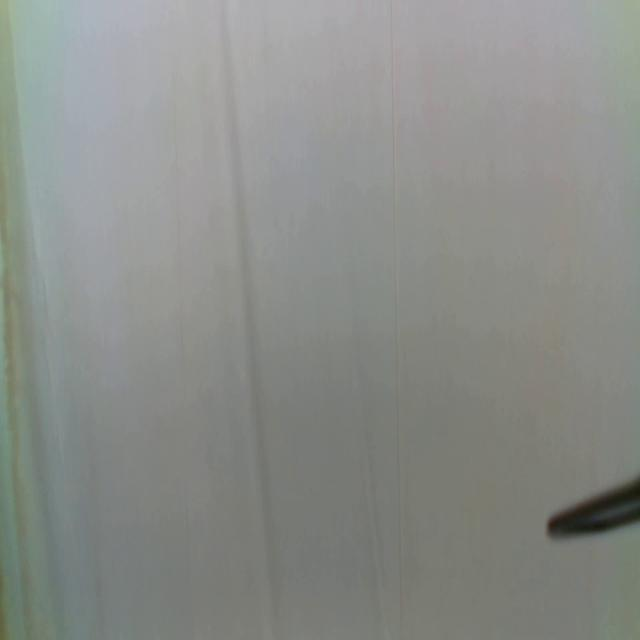color bleeding: (0, 0, 38, 639)
